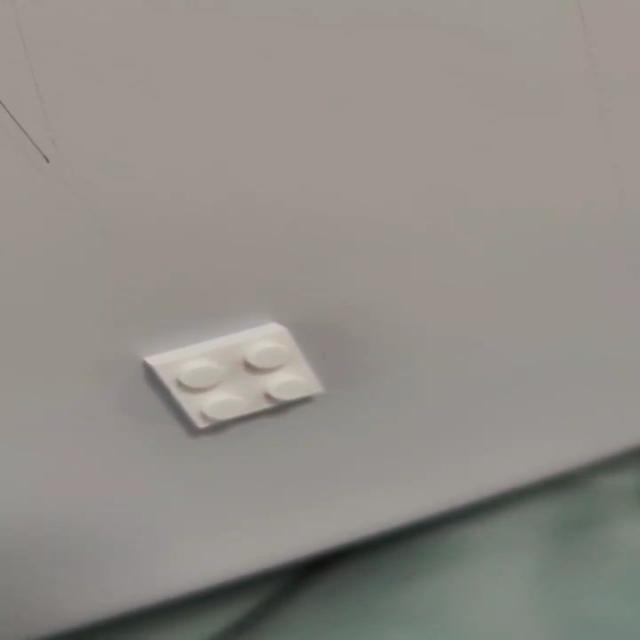C2x2x0: (149, 316, 325, 434)
